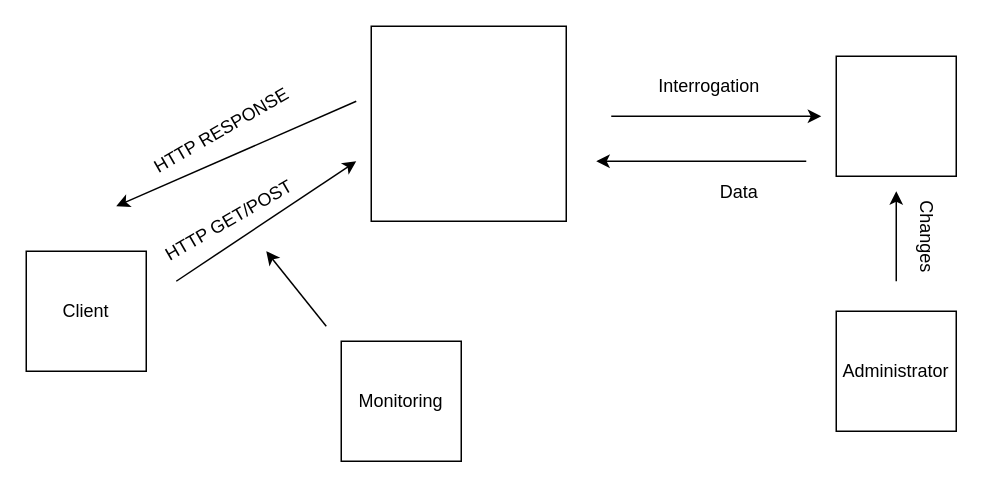
Some shapes in this 983 by 488 pixel diagram are drawn without their labels. The box of each missing label's shape, as (x1, y1, x2, y2) in pixels:
Database Server: (835, 55, 956, 176)
SERVER: (370, 25, 566, 221)
